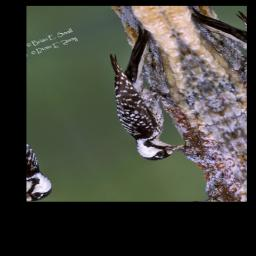Woodpecker: (76, 25, 211, 166)
